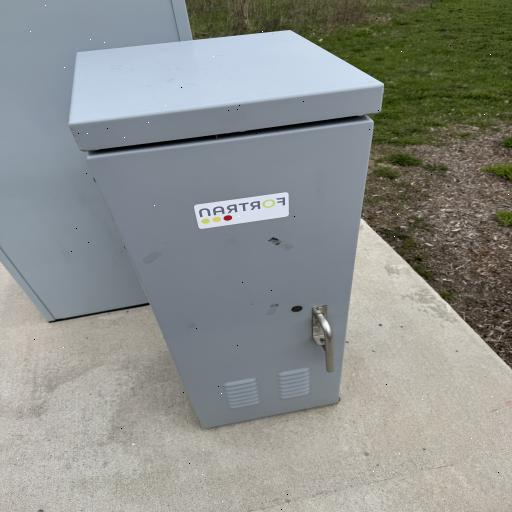Electrical Box: (64, 28, 386, 430)
